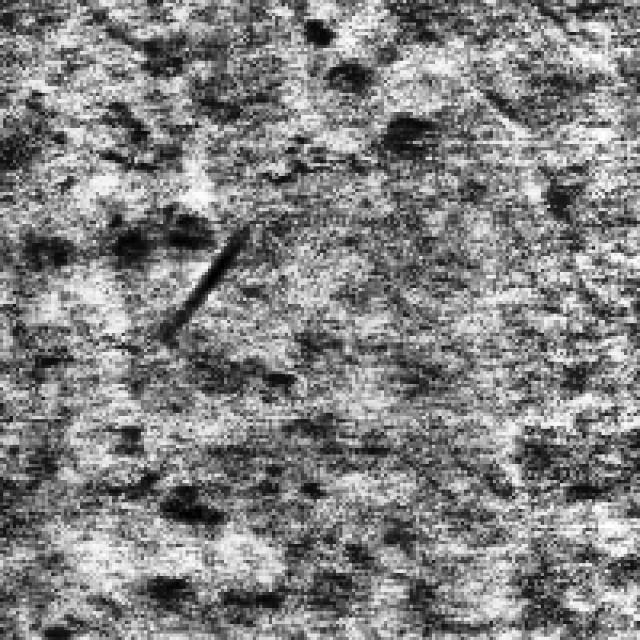Crazing: (38, 95, 215, 262), (90, 400, 224, 534)
